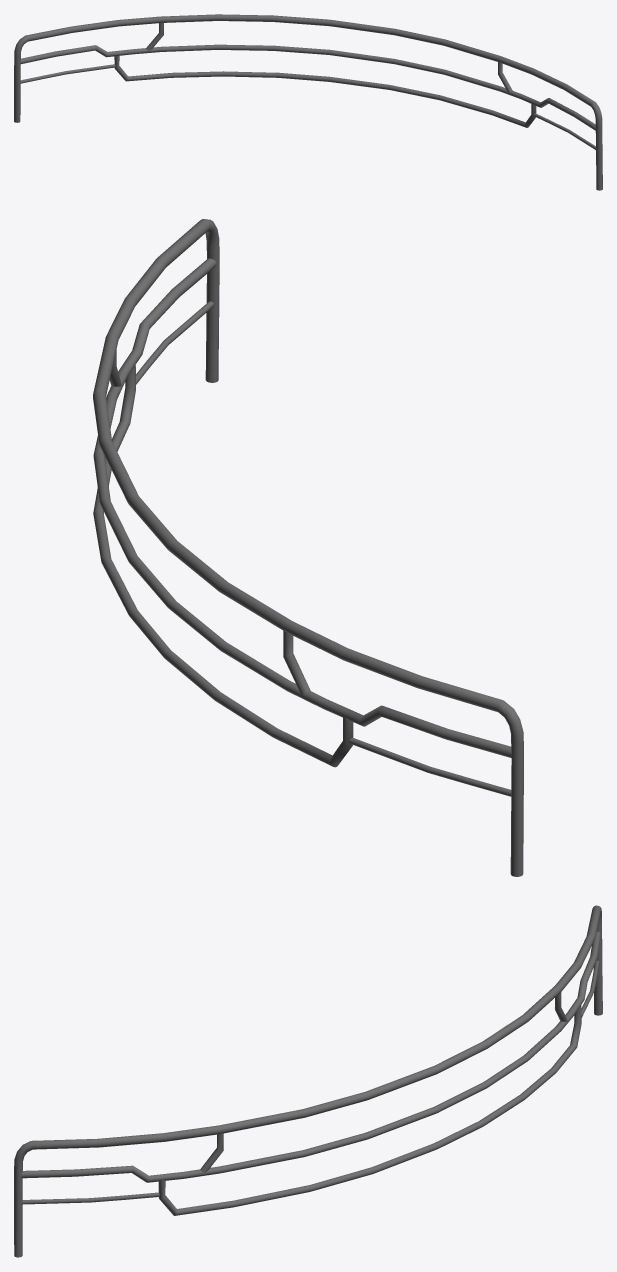
The model's file is sf_railing_round.glb.
The picture shows the model from 3 angles, top to bottom: view 1: azimuth 30°, elevation 25°; view 2: azimuth 150°, elevation 25°; view 3: azimuth 270°, elevation 25°; orthographic projection. The views are drawn at different scales.
Parts seen in each view (by area): view 1: Prop_Rail_Round_Big; view 2: Prop_Rail_Round_Big; view 3: Prop_Rail_Round_Big.
Boxes of the visible parts, x1,y1,x2,y2 form: Prop_Rail_Round_Big: (14, 14, 602, 190); Prop_Rail_Round_Big: (93, 219, 523, 876); Prop_Rail_Round_Big: (14, 905, 602, 1257).
Bounding box in the file's own units: 4 × 0.8624 × 4.05.
Materials: 1 (1 with a texture image).
